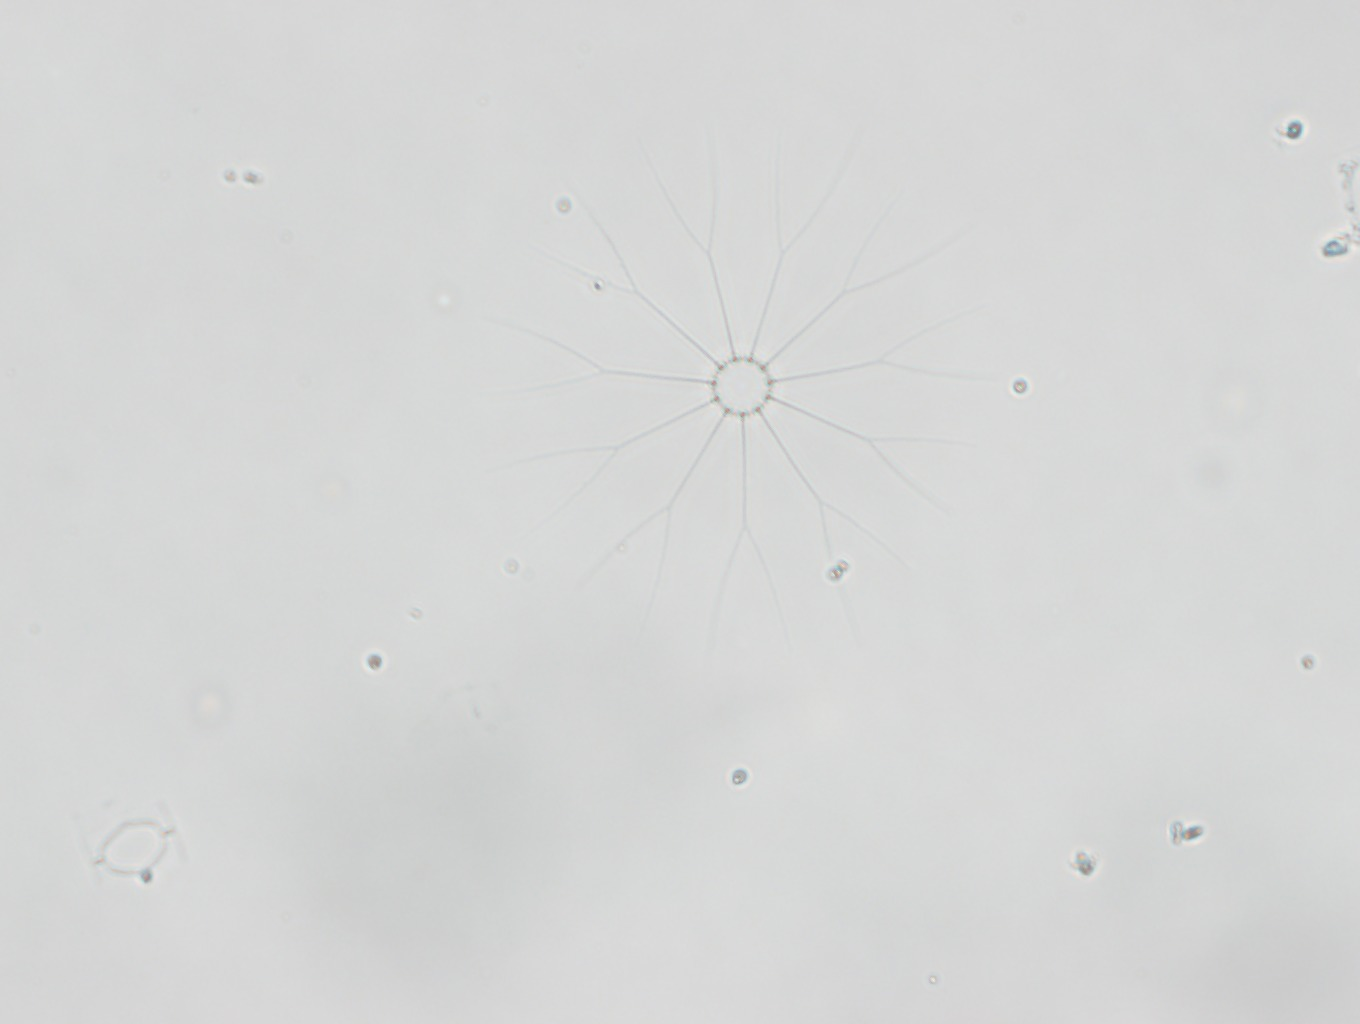bacteriastrum: (471, 132, 1016, 649)
